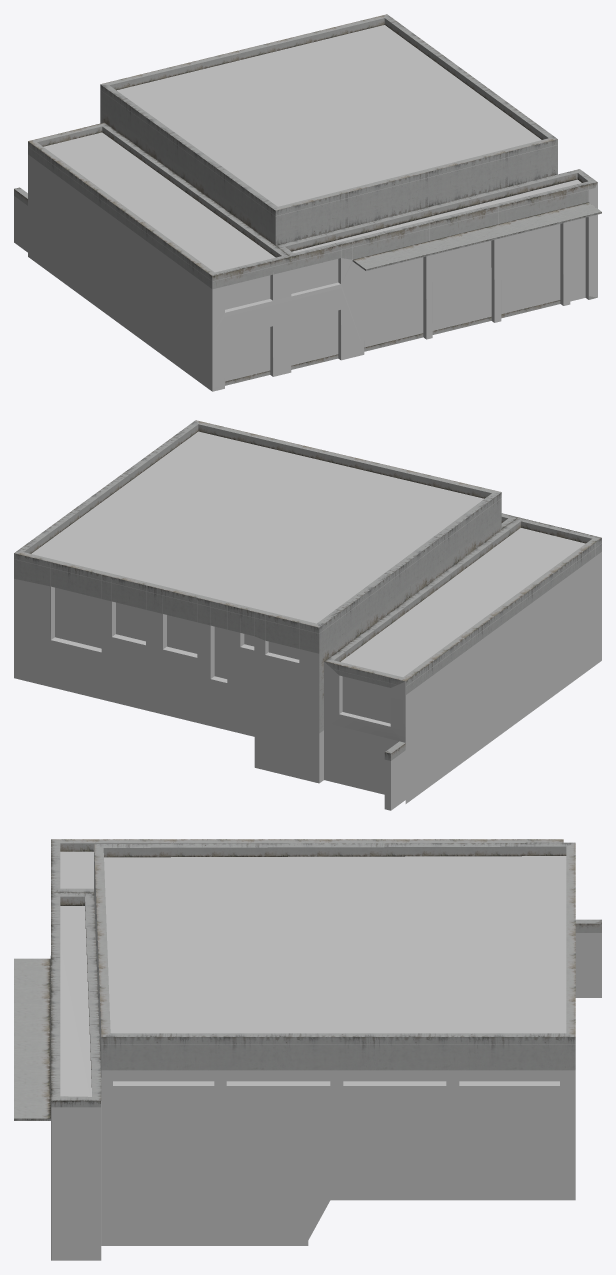
Rendered from Sludge_Dewatering_FBX2009_km.fbx.
3 views of the same model, one above another, from view 1: azimuth 30°, elevation 25°; view 2: azimuth 150°, elevation 25°; view 3: azimuth 270°, elevation 25° (orthographic). The views are drawn at different scales.
Parts seen in each view (by area): view 1: Sludge_Dewatering_km; view 2: Sludge_Dewatering_km; view 3: Sludge_Dewatering_km.
Boxes of the visible parts, box(x1,y1,x2,y2) form: Sludge_Dewatering_km: box(14, 14, 601, 391); Sludge_Dewatering_km: box(14, 420, 601, 810); Sludge_Dewatering_km: box(14, 839, 601, 1260).
Bounding box in the file's own units: 2389 × 891 × 2273.
